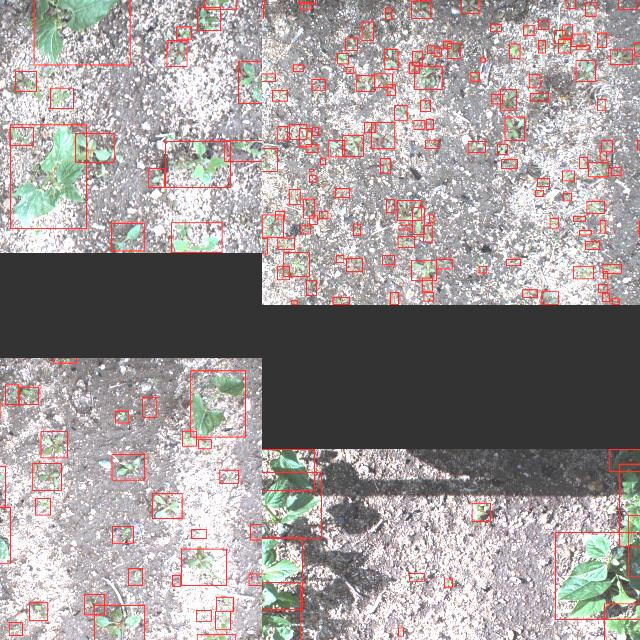crop: (10, 125, 86, 229), (554, 531, 640, 618), (33, 0, 129, 65), (262, 472, 321, 538), (190, 371, 244, 437), (262, 536, 301, 609), (262, 448, 313, 489)
weed: (164, 141, 230, 187), (262, 581, 300, 640), (618, 463, 640, 546), (93, 605, 144, 640), (180, 549, 226, 585), (171, 223, 221, 253), (603, 604, 640, 640), (74, 134, 114, 162), (238, 61, 262, 103), (110, 223, 144, 251), (112, 454, 144, 480), (224, 140, 262, 161), (627, 515, 640, 576), (31, 464, 60, 491), (151, 494, 181, 518), (609, 449, 640, 471), (40, 431, 66, 457), (413, 65, 441, 89), (283, 253, 309, 277), (371, 122, 394, 148), (196, 8, 220, 30), (166, 40, 186, 66), (410, 261, 436, 281), (49, 88, 72, 109), (504, 116, 524, 140), (396, 201, 420, 221), (84, 594, 105, 616), (14, 71, 36, 91), (575, 60, 595, 82), (262, 215, 282, 237), (9, 128, 33, 146), (342, 136, 362, 156), (111, 526, 132, 544), (29, 602, 47, 622), (18, 386, 38, 404), (470, 503, 490, 521), (499, 88, 515, 110), (262, 148, 277, 171), (410, 1, 430, 18), (412, 208, 424, 235), (148, 168, 164, 188), (203, 0, 235, 10), (588, 162, 608, 178), (354, 75, 374, 91), (609, 50, 631, 64), (214, 612, 230, 630), (573, 266, 593, 280), (384, 49, 398, 69), (142, 397, 156, 417), (4, 384, 18, 404), (328, 140, 344, 156), (290, 124, 306, 140), (34, 499, 50, 515), (374, 73, 392, 87), (215, 597, 233, 611), (128, 568, 142, 586), (302, 198, 314, 218), (218, 470, 238, 482), (586, 200, 604, 213), (460, 0, 478, 13), (346, 258, 362, 272), (182, 430, 196, 446), (396, 236, 414, 248), (276, 238, 294, 250), (299, 128, 311, 146), (446, 42, 459, 58), (249, 524, 262, 540), (276, 266, 290, 280), (8, 622, 22, 636), (196, 635, 235, 640), (570, 34, 586, 46), (541, 292, 557, 304), (394, 104, 406, 120), (602, 264, 620, 274), (362, 22, 372, 40), (422, 225, 432, 242), (176, 27, 190, 39), (584, 2, 596, 16), (558, 39, 570, 53), (528, 74, 540, 88), (288, 190, 300, 204), (196, 610, 210, 622), (248, 574, 262, 586), (114, 411, 128, 423), (530, 92, 548, 101), (596, 32, 606, 48), (468, 142, 484, 152), (435, 259, 451, 269), (306, 280, 316, 296), (379, 158, 389, 174), (345, 38, 357, 51), (600, 140, 612, 152), (618, 0, 636, 8), (312, 78, 324, 90), (562, 24, 572, 38), (509, 44, 519, 58), (421, 278, 431, 292), (334, 188, 348, 198), (277, 126, 287, 140), (272, 90, 286, 100), (411, 51, 421, 65), (337, 52, 348, 64), (554, 31, 564, 44), (501, 160, 517, 168), (190, 530, 206, 538), (408, 573, 424, 581), (562, 171, 574, 181), (382, 255, 394, 265), (420, 100, 430, 112), (409, 62, 419, 74), (52, 358, 75, 363), (585, 242, 599, 250), (522, 290, 536, 298), (424, 140, 438, 148), (491, 94, 502, 104), (389, 293, 398, 305), (198, 439, 210, 448), (538, 19, 548, 29), (523, 25, 533, 35), (497, 144, 507, 154), (423, 292, 433, 302), (414, 120, 424, 130), (364, 122, 374, 132), (537, 179, 549, 187), (596, 98, 604, 110), (332, 298, 348, 304), (352, 224, 360, 236), (386, 200, 394, 212), (305, 144, 317, 152), (386, 84, 394, 96), (262, 73, 274, 81), (634, 42, 640, 56), (506, 260, 520, 266), (597, 284, 607, 292), (549, 218, 557, 228), (610, 168, 620, 176), (579, 158, 587, 168), (565, 0, 575, 8), (490, 24, 500, 32), (384, 8, 392, 18), (300, 226, 310, 234), (274, 211, 284, 219), (293, 64, 303, 72), (300, 2, 310, 10), (172, 576, 180, 586), (579, 230, 591, 236), (572, 216, 584, 222), (576, 44, 588, 50), (538, 40, 544, 52), (469, 72, 478, 80), (601, 294, 609, 302), (478, 266, 486, 274), (335, 255, 343, 263), (309, 216, 317, 224), (262, 238, 266, 254), (562, 193, 570, 201), (426, 45, 434, 53), (444, 579, 452, 587), (426, 119, 432, 129), (318, 212, 328, 218), (398, 226, 412, 230), (443, 41, 451, 48), (434, 48, 441, 56), (600, 220, 604, 233), (535, 190, 543, 196), (599, 152, 605, 160), (428, 215, 434, 223), (312, 127, 318, 135), (345, 67, 353, 73), (309, 175, 315, 182), (636, 140, 640, 150), (612, 299, 618, 305), (398, 628, 402, 636), (320, 158, 324, 165), (603, 272, 607, 278), (291, 300, 297, 304), (480, 58, 484, 62), (308, 169, 314, 171)
